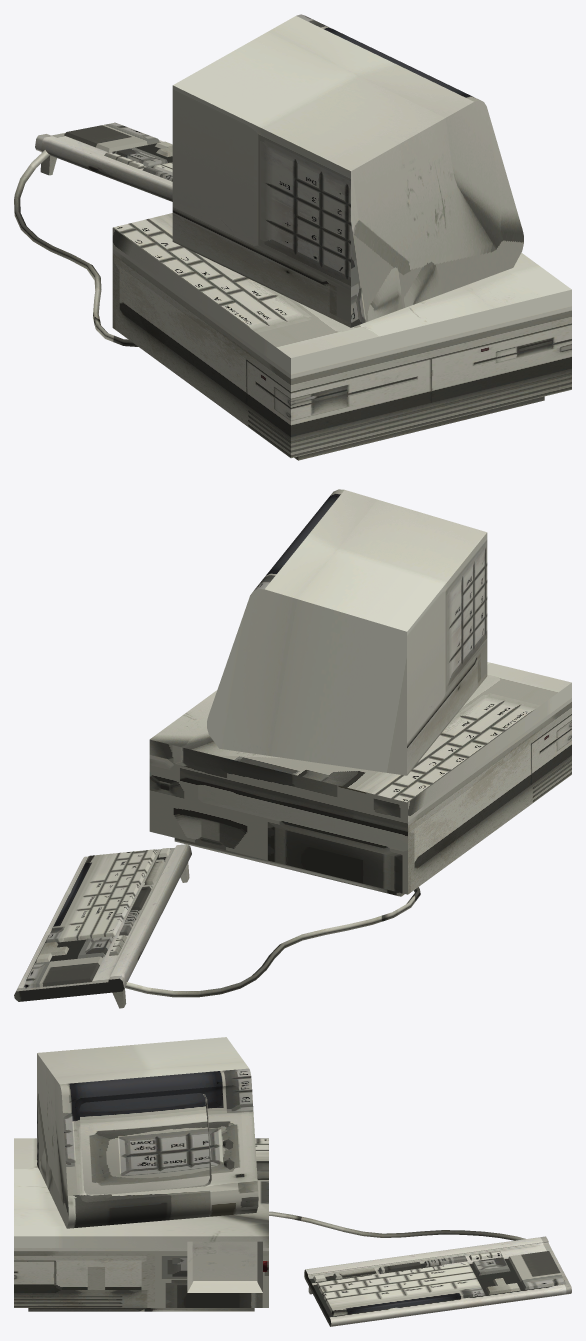
The model's file is computer_1980.glb.
3 renders of one model, top to bottom at view 1: azimuth 30°, elevation 25°; view 2: azimuth 150°, elevation 25°; view 3: azimuth 270°, elevation 25°, orthographic. The views are drawn at different scales.
Visible parts, largest first — view 1: computer_1980; view 2: computer_1980; view 3: computer_1980.
Part boxes in pixels (box(x1,y1,x2,y2)): computer_1980: box(14, 14, 571, 460); computer_1980: box(14, 489, 571, 1008); computer_1980: box(14, 1037, 571, 1326).
Size of the model in its own units: 0.3913 by 0.3479 by 0.8357.
1 material, 1 textured.
